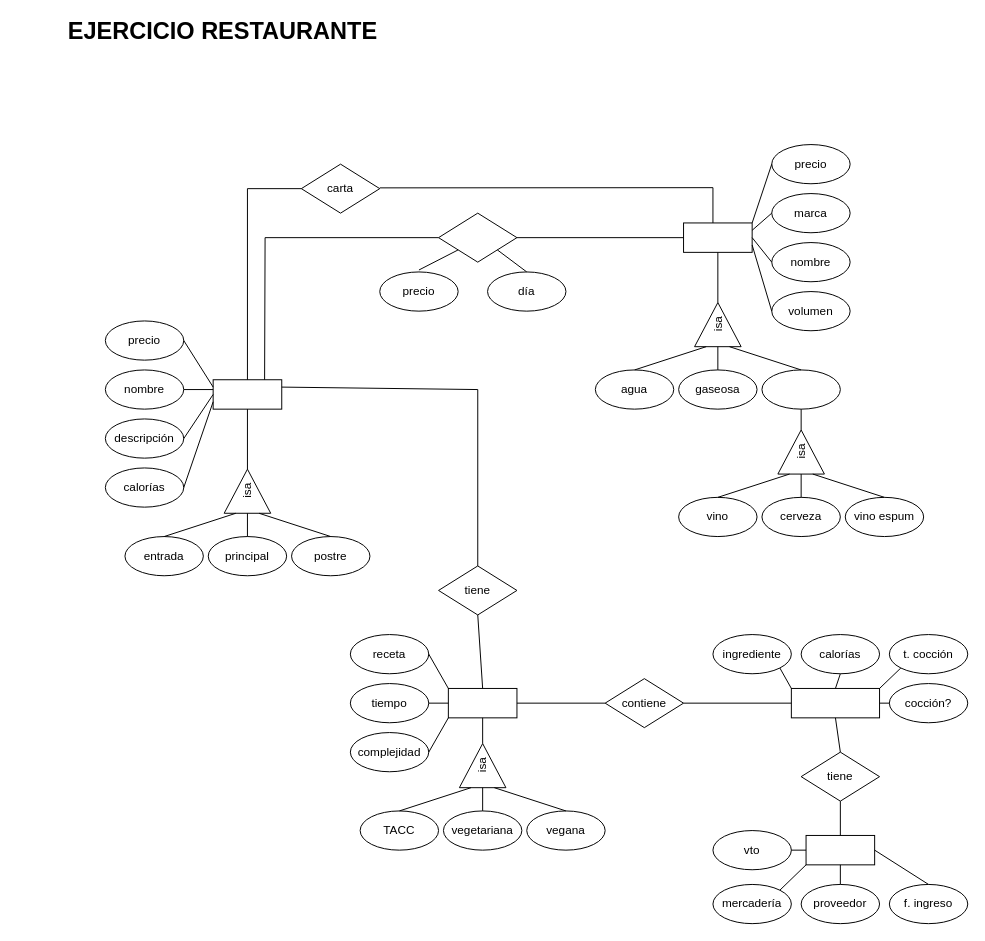
Image size: 985x941. Some labels were removed from this diagram. The centre of each missing label's shape, as x and y in pixels:
alcohol: (800,389)
bebidas: (717,237)
ingredientes: (835,702)
menú sug.: (477,237)
plato: (247,394)
recetas: (482,702)
stock: (840,849)
